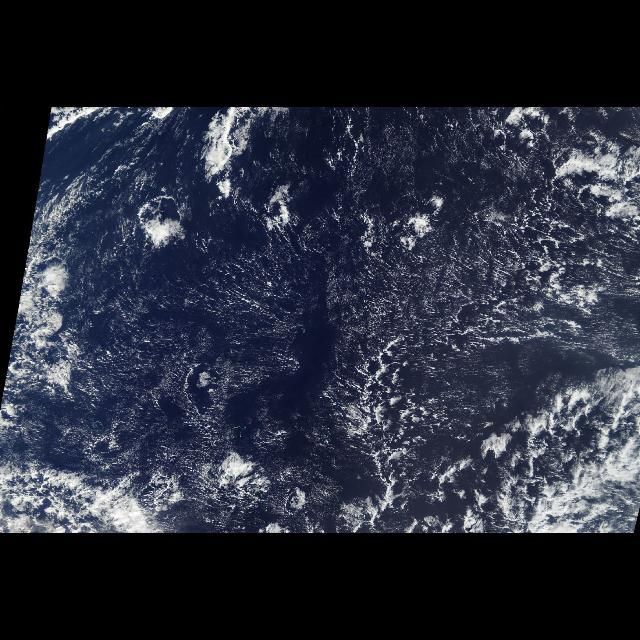Gravel: (203, 144, 637, 526)
Sugar: (39, 112, 581, 458)
